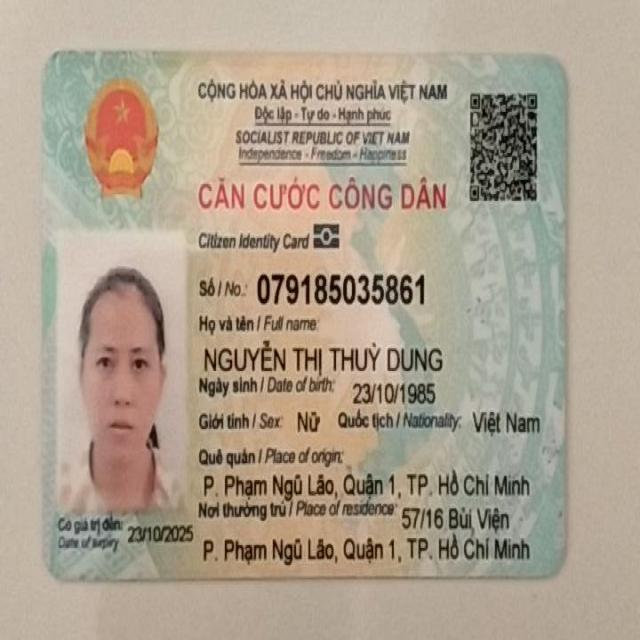bottom_left: (33, 548, 70, 596)
bottom_right: (533, 551, 575, 587)
image_person: (57, 244, 194, 518)
top_left: (22, 34, 71, 82)
top_right: (531, 40, 575, 81)
